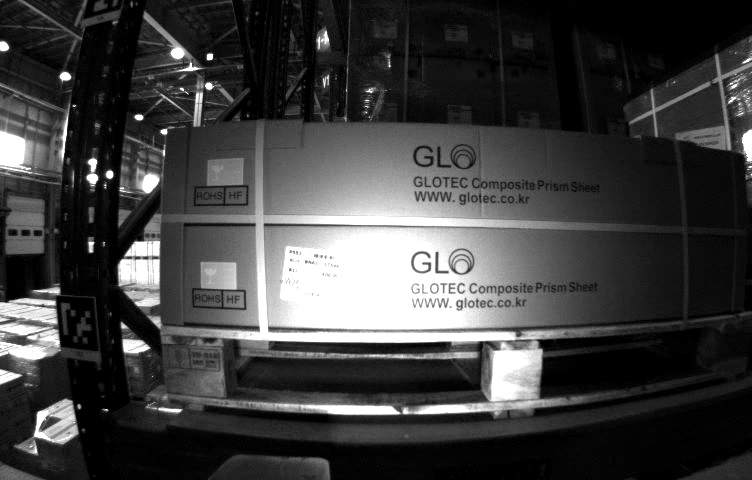True Barcode: (280, 244, 340, 301)
